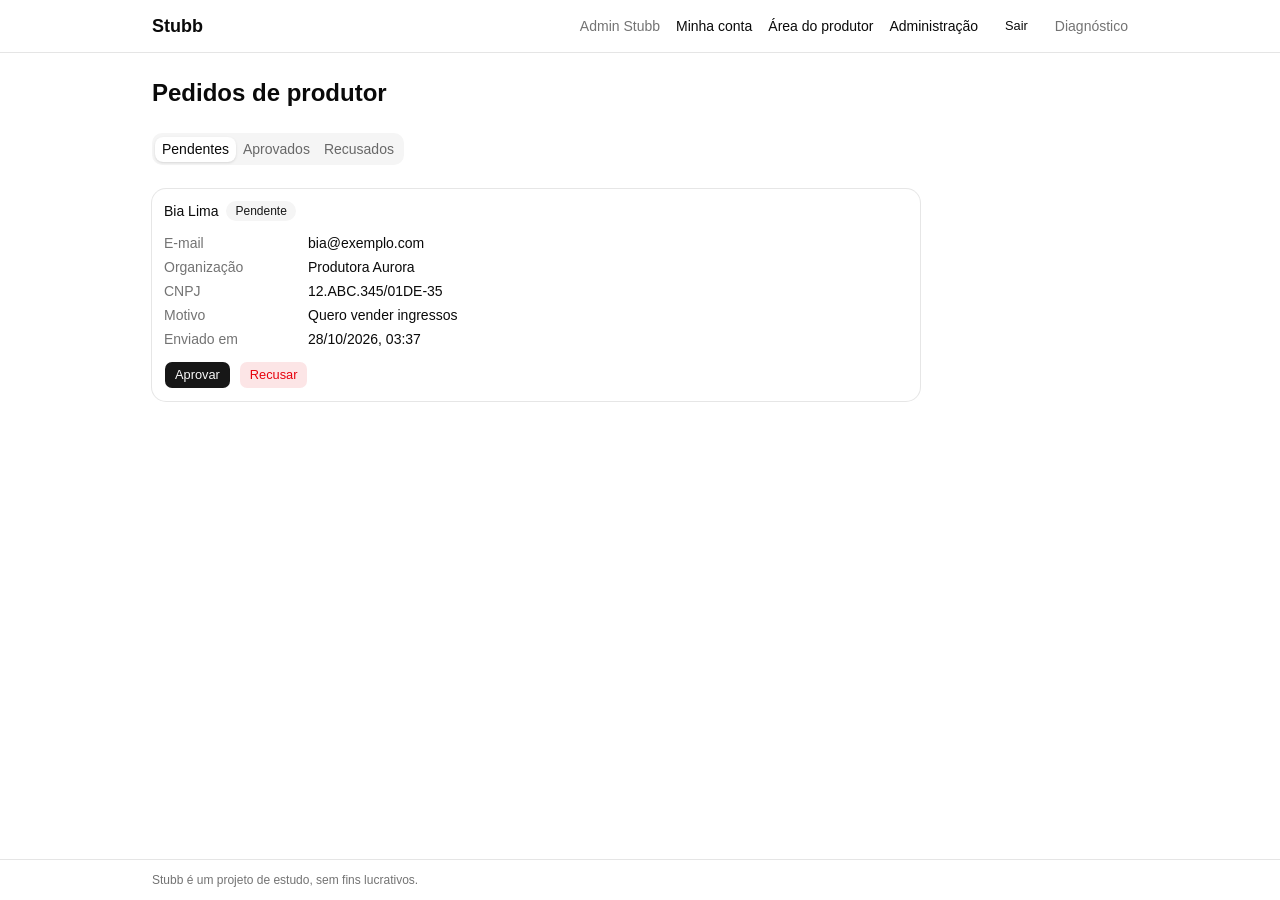
AdminOrganizerRequestsPage › cancelar o diálogo não envia nada
Click the button "Recusar": (274, 375) x1=239 y1=361 x2=308 y2=389
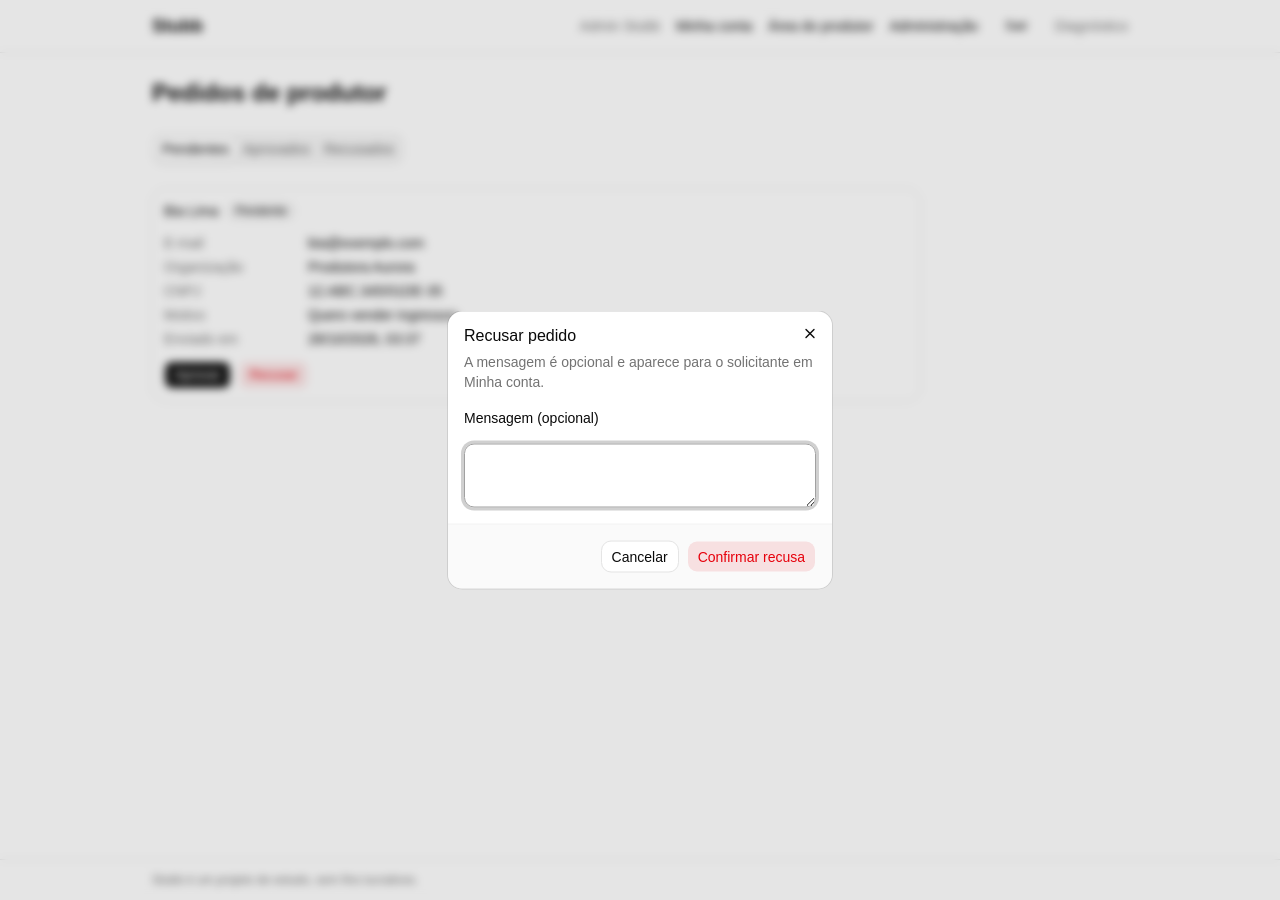
Click the button "Cancelar": (640, 556) x1=601 y1=540 x2=679 y2=572
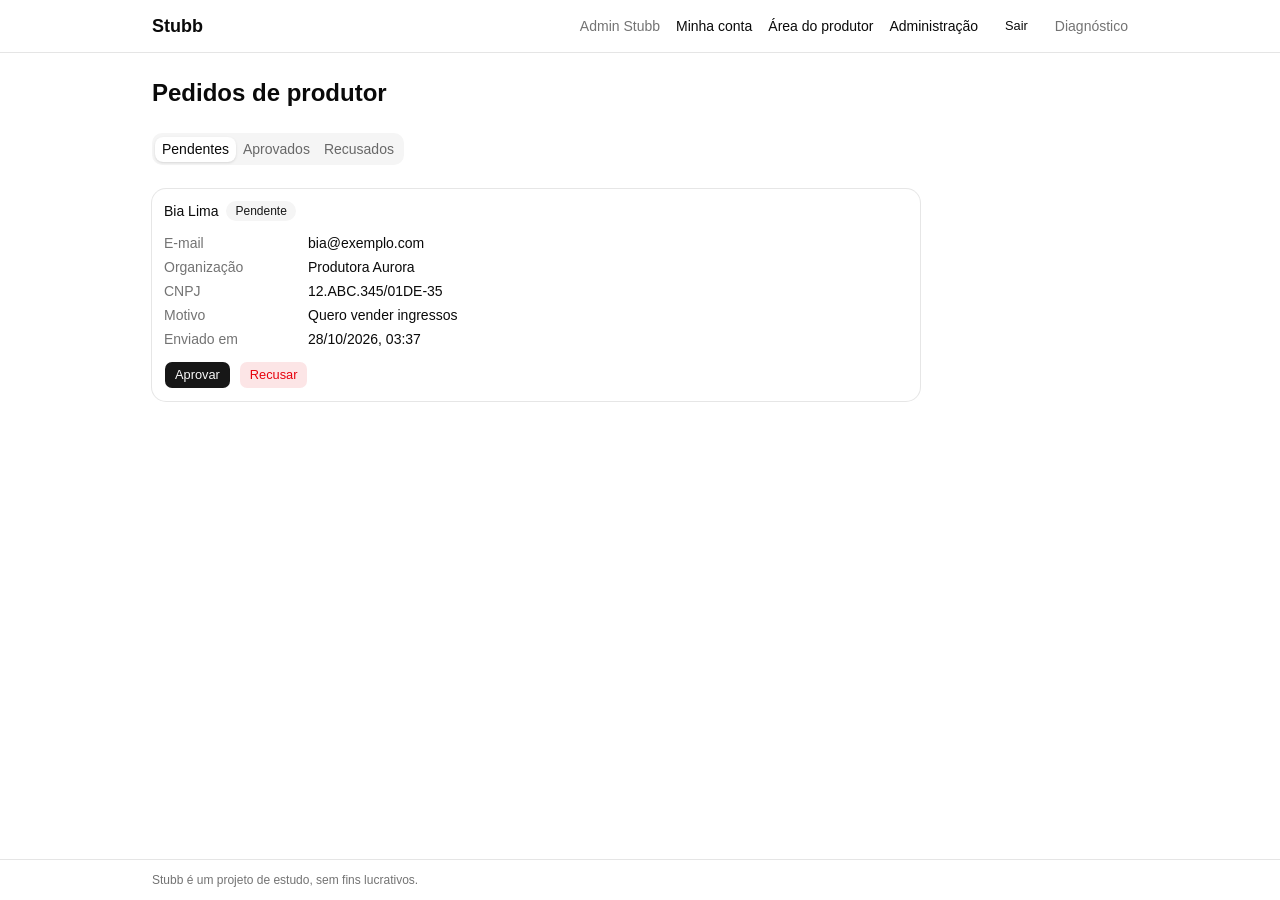
Expected: the dialog is gone
